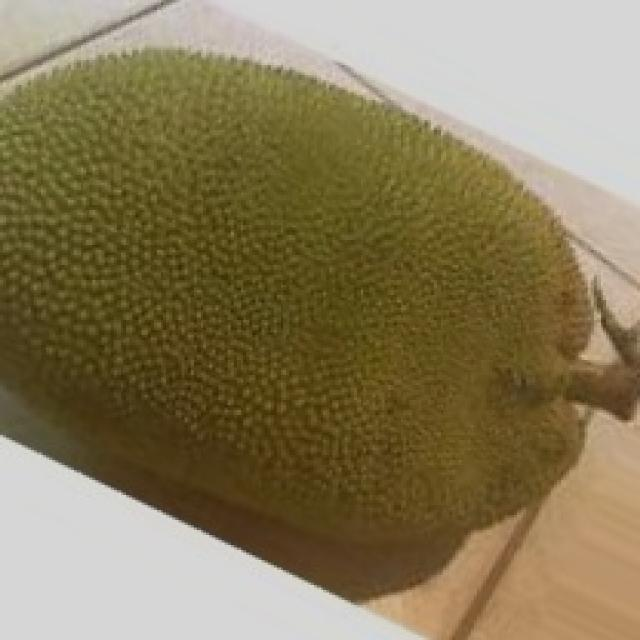Fruit: (0, 12, 403, 472), (268, 22, 628, 388)
